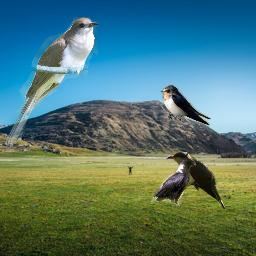Crow: (151, 156, 196, 206)
Cuckoo: (4, 17, 99, 147), (165, 152, 225, 212)
Swallow: (160, 84, 211, 127)
